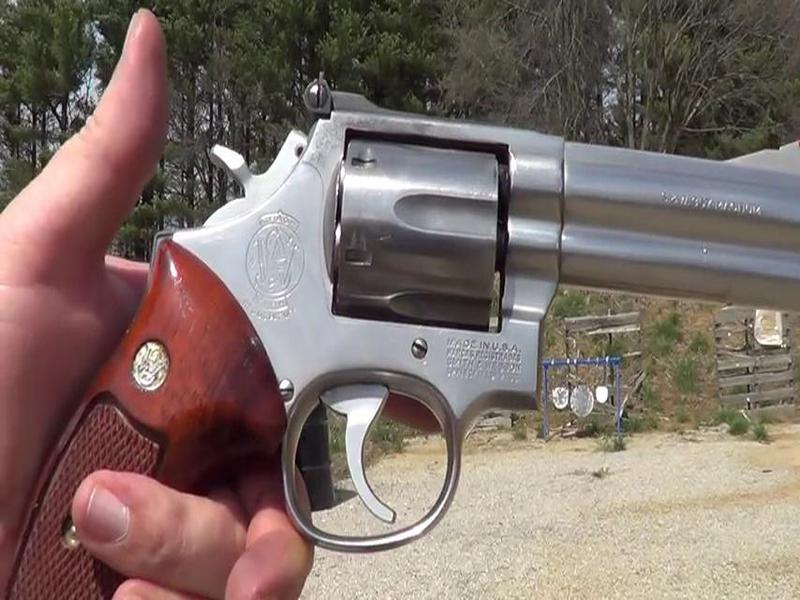Revolver: (137, 58, 800, 544)
